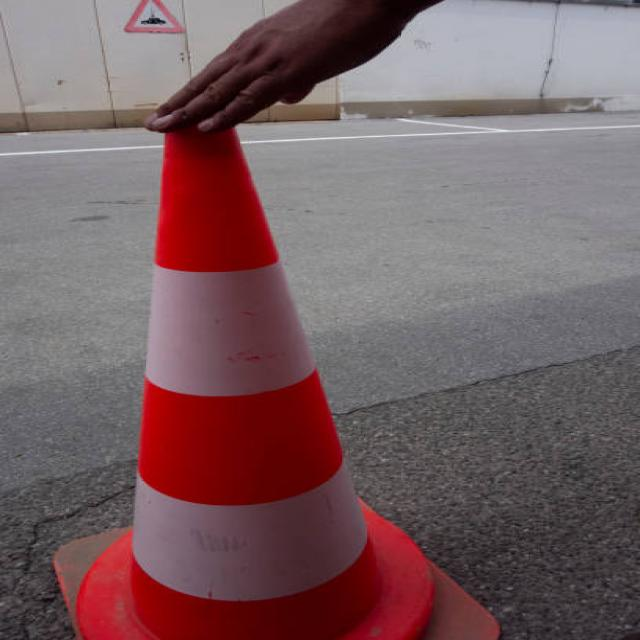Traffic Cone: (37, 94, 520, 640)
